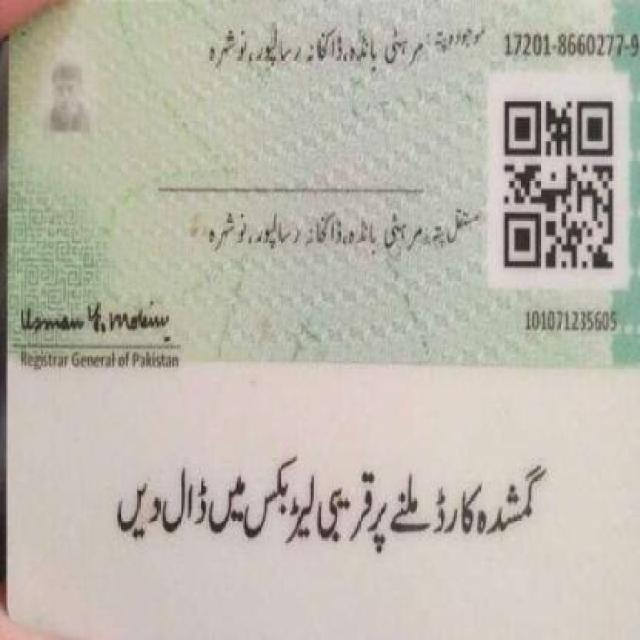Back: (7, 4, 640, 626)
